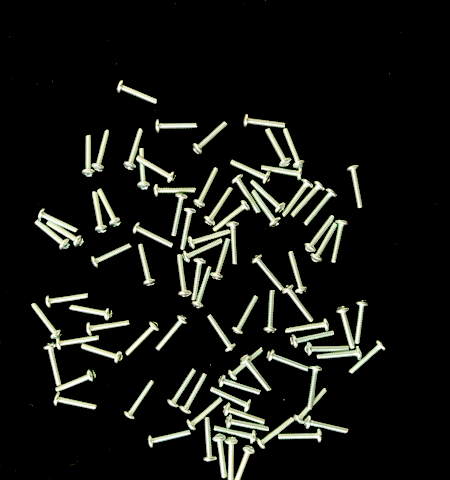longscrew: (293, 384, 334, 423), (256, 415, 298, 450), (347, 342, 387, 377), (233, 173, 263, 218), (281, 284, 317, 320), (137, 153, 175, 187), (155, 316, 188, 355), (192, 122, 231, 155), (228, 292, 258, 334), (251, 178, 286, 214), (305, 212, 334, 254), (307, 186, 336, 228), (166, 371, 198, 409), (180, 376, 212, 414), (126, 321, 158, 359), (252, 185, 279, 230), (243, 352, 271, 394), (93, 242, 135, 270), (204, 314, 236, 350), (212, 201, 249, 232), (218, 376, 262, 402), (311, 223, 338, 265), (28, 302, 60, 337), (205, 185, 233, 225), (134, 222, 174, 250), (282, 180, 310, 219), (123, 383, 155, 417), (230, 346, 261, 381), (293, 183, 321, 221), (229, 159, 267, 187), (252, 255, 285, 287), (211, 388, 250, 415), (39, 208, 77, 235), (333, 307, 356, 351), (97, 190, 125, 226), (33, 223, 70, 250), (45, 219, 82, 246), (199, 419, 222, 461), (223, 222, 246, 264), (208, 436, 230, 479), (209, 239, 231, 282), (188, 259, 210, 302), (136, 244, 158, 287), (176, 207, 198, 250), (166, 195, 188, 238), (117, 80, 158, 103), (222, 438, 244, 480), (194, 266, 216, 308), (172, 254, 194, 296), (42, 342, 63, 386), (196, 167, 218, 208), (75, 344, 124, 362), (49, 373, 98, 391), (151, 115, 200, 133), (242, 112, 291, 130), (277, 428, 326, 446), (220, 417, 269, 435), (124, 124, 142, 173), (132, 144, 150, 193), (349, 162, 367, 211), (330, 217, 348, 266), (221, 405, 269, 423), (210, 424, 258, 442), (262, 162, 302, 183), (289, 247, 306, 294), (90, 190, 109, 232), (267, 353, 311, 371), (144, 432, 192, 448), (52, 395, 100, 411), (42, 289, 90, 305), (284, 132, 304, 170), (269, 130, 289, 168), (66, 305, 113, 321), (151, 182, 200, 197), (55, 334, 103, 349), (86, 320, 133, 335), (234, 448, 256, 480), (318, 348, 362, 364), (307, 341, 351, 357), (289, 332, 333, 348), (266, 286, 280, 335), (285, 320, 329, 335), (306, 417, 350, 432), (96, 128, 109, 175), (80, 131, 93, 178), (308, 368, 321, 407), (357, 297, 366, 345)
